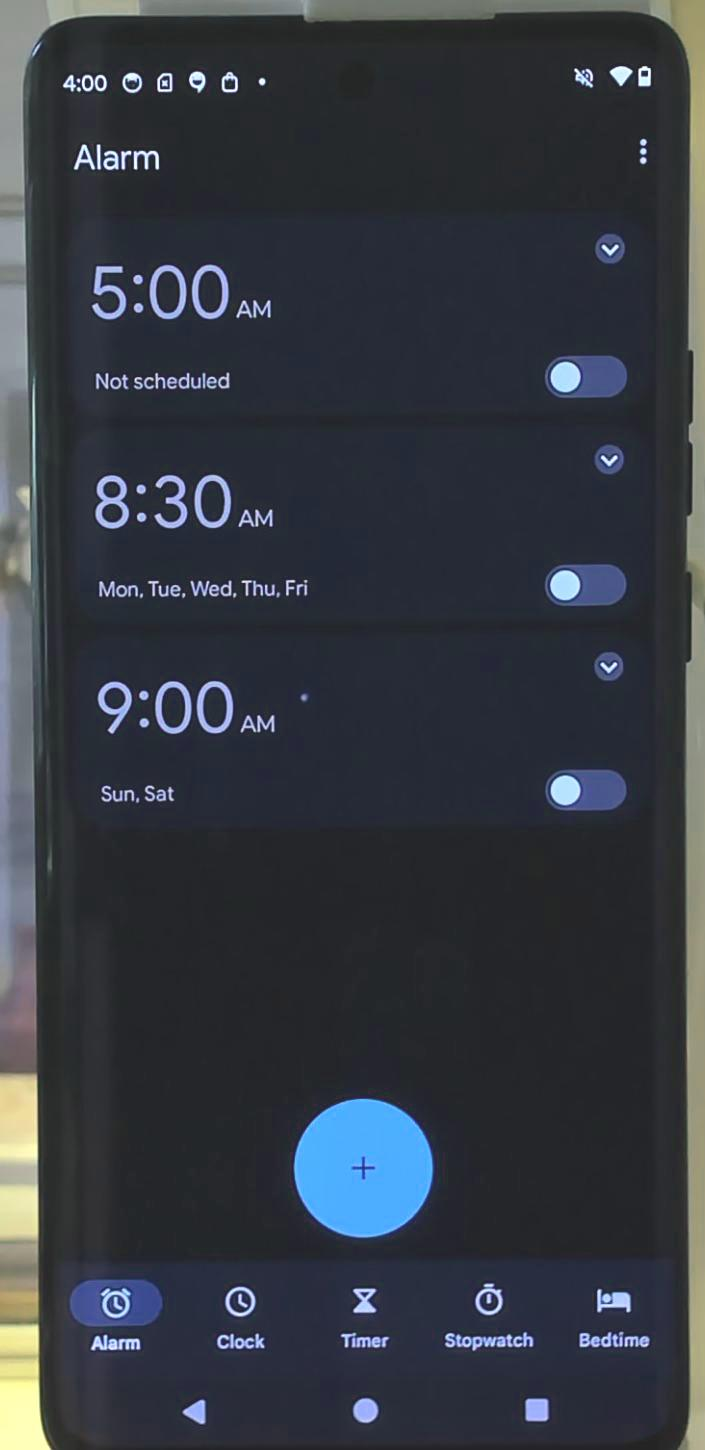RadioButton: (525, 328, 643, 419), (528, 743, 637, 830), (535, 543, 632, 628)
